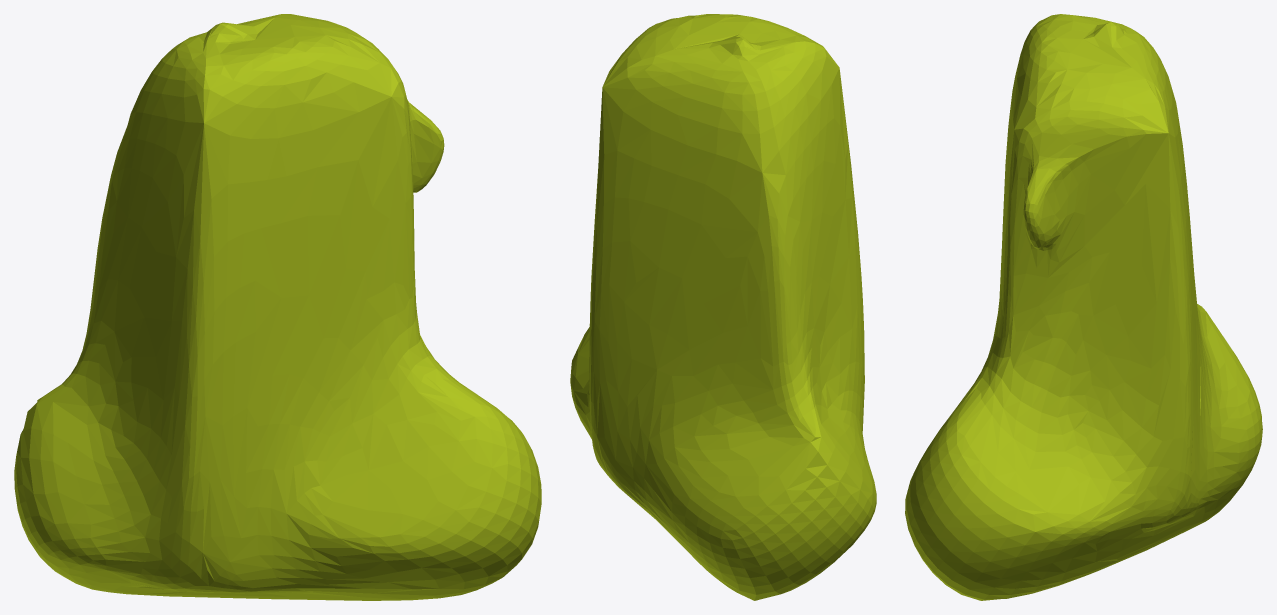
3 renders of one model, left to right at view 1: azimuth 30°, elevation 25°; view 2: azimuth 150°, elevation 25°; view 3: azimuth 270°, elevation 25°, orthographic. The views are drawn at different scales.
Visible parts, largest first — view 1: 080_Cube.331; view 2: 080_Cube.331; view 3: 080_Cube.331.
Boxes of the visible parts, x1,y1,x2,y2 form: 080_Cube.331: (14,14,541,600); 080_Cube.331: (570,14,876,600); 080_Cube.331: (905,14,1262,600).
Size of the model in its own units: 9.96 by 13.72 by 8.5.
